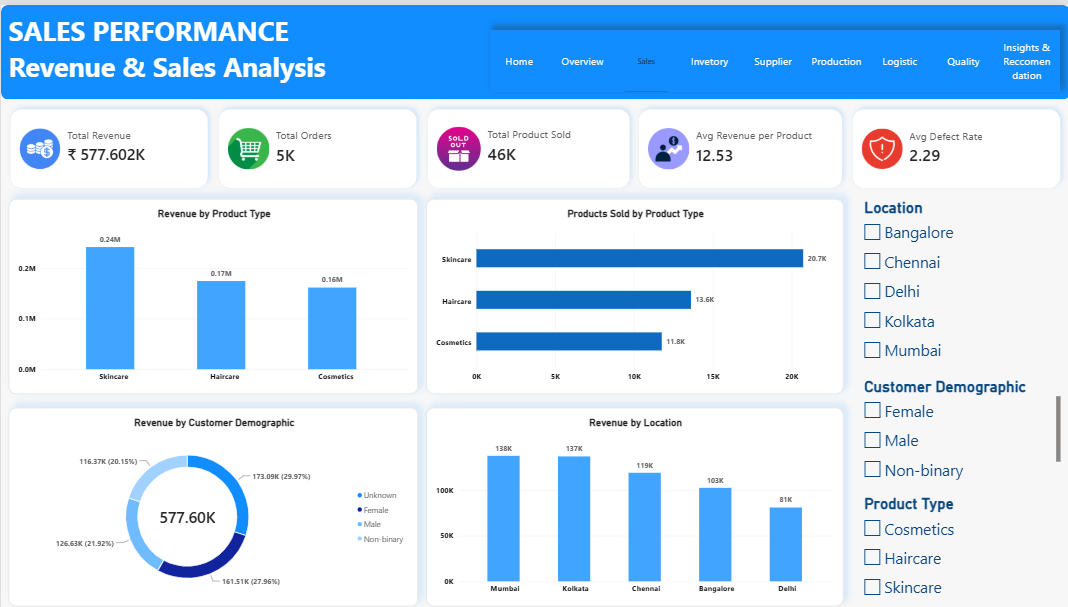

What the dashboard file says about the page in this screenshot:
{"tool":"powerbi","page":{"name":"Sales ","canvas":[1920,1080],"ordinal":2},"visuals":[{"type":"shape","title":"SALES PERFORMANCE                    [Product Type ▼]       │ │ Revenue & Sales Analysis    ","box":[0,0,1920.4,169.7],"z":0},{"type":"cardVisual","fields":{"Data":["Measures (2).Total Revenue"]},"box":[0,169.7,388.8,175.7],"z":1000},{"type":"textbox","box":[14.5,14.5,628,155.6],"z":2000},{"type":"slicer","fields":{"Values":["supply_chain_data.Product type"]},"box":[1543.4,880.3,377,199.3],"z":3000},{"type":"slicer","fields":{"Values":["supply_chain_data.Customer demographic"]},"box":[1543.4,669.1,361.2,191.4],"z":4000},{"type":"slicer","fields":{"Values":["supply_chain_data.Location"]},"box":[1543.4,347.4,359.2,300],"z":5000},{"type":"cardVisual","fields":{"Data":["Measures (2).Total Orders"]},"box":[375,169.7,388.8,175.7],"z":6000},{"type":"cardVisual","fields":{"Data":["Measures (2).Revenue per Product"]},"box":[1129,169.7,398.7,175.7],"z":7000},{"type":"cardVisual","fields":{"Data":["Measures (2).Total Product Sold"]},"box":[750,169.7,396.7,175.7],"z":8000},{"type":"cardVisual","fields":{"Data":["Measures (2).Average Defect Rate"]},"box":[1513.8,169.7,406.6,175.7],"z":9000},{"type":"clusteredColumnChart","title":"Revenue by Product Type","fields":{"Category":["supply_chain_data.Product type"],"Y":["Measures (2).Total Revenue"]},"box":[13.8,347.4,736.2,351.3],"z":10000},{"type":"clusteredBarChart","title":"Products Sold by Product Type ","fields":{"Category":["supply_chain_data.Product type"],"Y":["Measures (2).Total Product Sold"]},"box":[763.8,347.4,750,351.3],"z":11000},{"type":"clusteredColumnChart","title":" Revenue by Location ","fields":{"Category":["supply_chain_data.Location"],"Y":["Measures (2).Total Revenue"]},"box":[763.8,722.4,750,357.2],"z":12000},{"type":"donutChart","title":"Revenue by Customer Demographic","fields":{"Y":["Measures (2).Total Revenue"],"Category":["supply_chain_data.Customer demographic"]},"box":[13.8,722.4,736.2,357.2],"z":13000},{"type":"pageNavigator","box":[878,44.9,1024,112.3],"z":14000}]}

Visuals, with their boxes in screenshot pixels (x1, y1, x2, y2), scaled from the page's 1920x1080 canvas onto the 1068x607 screenshot:
"SALES PERFORMANCE                    [Product Type ▼]       │ │ Revenue & Sales Analysis    " shape: {"x1": 0, "y1": 0, "x2": 1067, "y2": 95}
cardVisual - Measures (2).Total Revenue: {"x1": 0, "y1": 95, "x2": 216, "y2": 194}
textbox: {"x1": 8, "y1": 8, "x2": 357, "y2": 96}
slicer - supply_chain_data.Product type: {"x1": 859, "y1": 495, "x2": 1067, "y2": 606}
slicer - supply_chain_data.Customer demographic: {"x1": 859, "y1": 376, "x2": 1059, "y2": 484}
slicer - supply_chain_data.Location: {"x1": 859, "y1": 195, "x2": 1058, "y2": 364}
cardVisual - Measures (2).Total Orders: {"x1": 209, "y1": 95, "x2": 425, "y2": 194}
cardVisual - Measures (2).Revenue per Product: {"x1": 628, "y1": 95, "x2": 850, "y2": 194}
cardVisual - Measures (2).Total Product Sold: {"x1": 417, "y1": 95, "x2": 638, "y2": 194}
cardVisual - Measures (2).Average Defect Rate: {"x1": 842, "y1": 95, "x2": 1067, "y2": 194}
"Revenue by Product Type" clusteredColumnChart: {"x1": 8, "y1": 195, "x2": 417, "y2": 393}
"Products Sold by Product Type " clusteredBarChart: {"x1": 425, "y1": 195, "x2": 842, "y2": 393}
" Revenue by Location " clusteredColumnChart: {"x1": 425, "y1": 406, "x2": 842, "y2": 606}
"Revenue by Customer Demographic" donutChart: {"x1": 8, "y1": 406, "x2": 417, "y2": 606}
pageNavigator: {"x1": 488, "y1": 25, "x2": 1058, "y2": 88}
